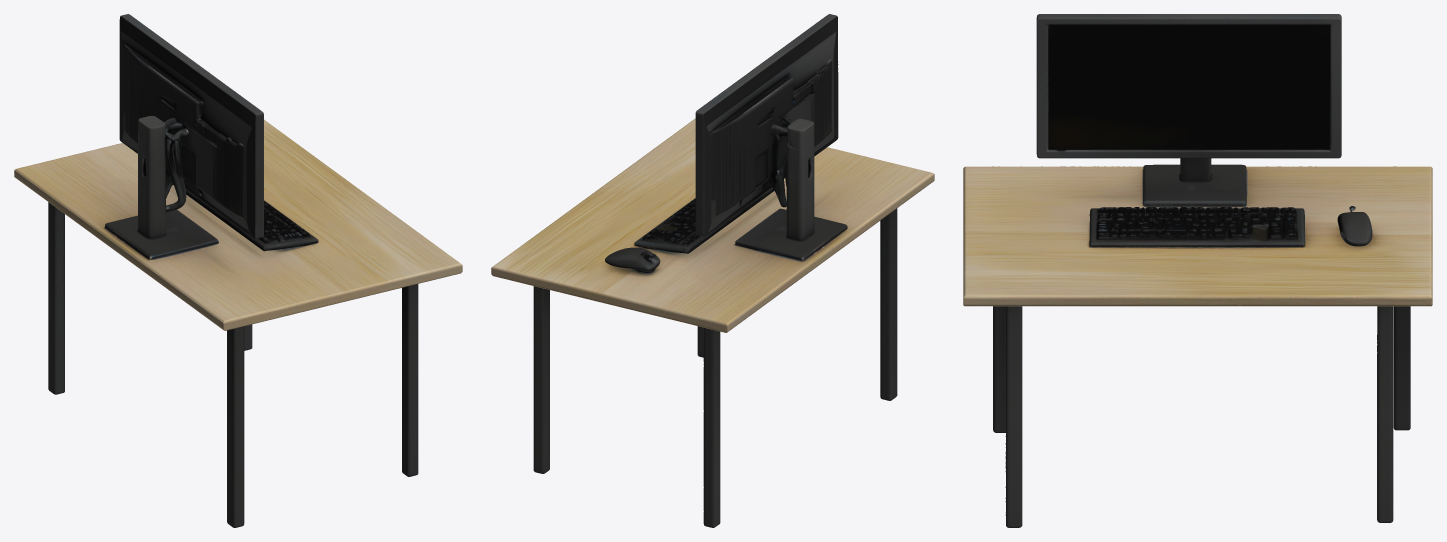
File: office_desk.glb
The picture shows the model from 3 angles, left to right: view 1: azimuth 30°, elevation 25°; view 2: azimuth 150°, elevation 25°; view 3: azimuth 270°, elevation 25°; orthographic projection. The views are drawn at different scales.
Visible parts, largest first — view 1: tripo_node_429b44d1-5a56-490c-befe-b00e8f113837; view 2: tripo_node_429b44d1-5a56-490c-befe-b00e8f113837; view 3: tripo_node_429b44d1-5a56-490c-befe-b00e8f113837.
Part boxes in pixels (x1,y1,x2,y2): tripo_node_429b44d1-5a56-490c-befe-b00e8f113837: (14, 14, 462, 527); tripo_node_429b44d1-5a56-490c-befe-b00e8f113837: (491, 14, 934, 527); tripo_node_429b44d1-5a56-490c-befe-b00e8f113837: (963, 14, 1432, 527).
Size of the model in its own units: 0.6426 by 1 by 0.9736.
Materials: 1 (1 with a texture image).
